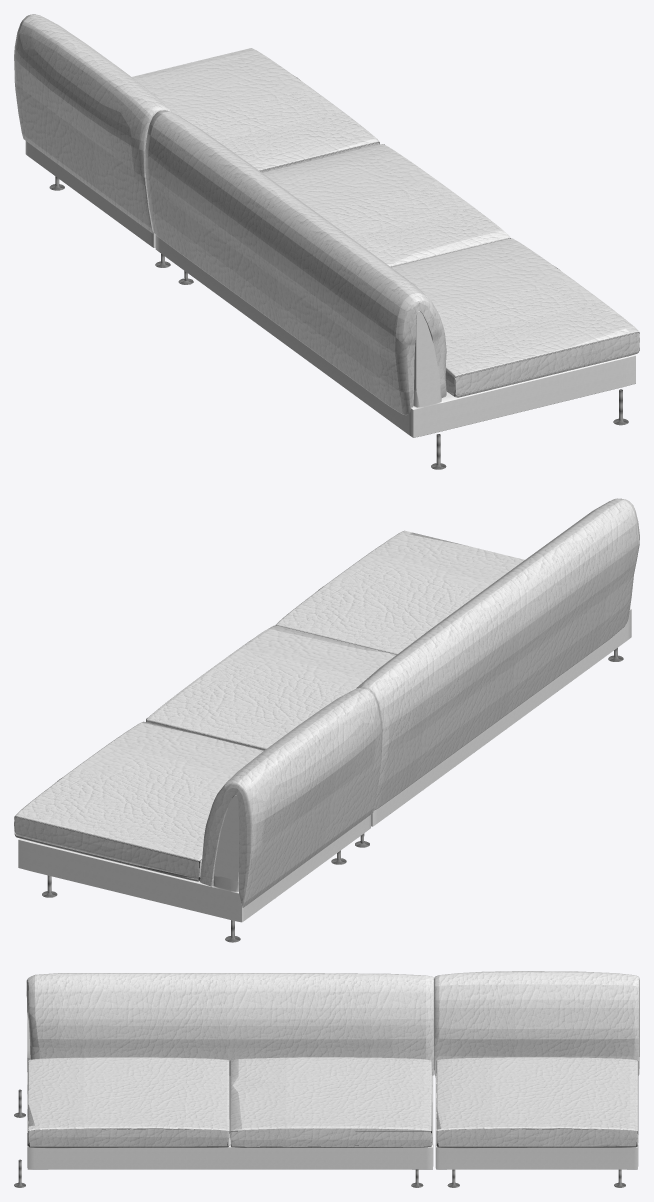
Rendered from sofa.obj.
3 views of the same model, one above another, from view 1: azimuth 30°, elevation 25°; view 2: azimuth 150°, elevation 25°; view 3: azimuth 270°, elevation 25° (orthographic). The views are drawn at different scales.
Visible parts, largest first — view 1: polySurface24; view 2: polySurface24; view 3: polySurface24.
Boxes of the visible parts, bbox=[...] form: polySurface24: bbox=[14, 14, 639, 469]; polySurface24: bbox=[14, 498, 639, 942]; polySurface24: bbox=[14, 971, 639, 1187].
Size of the model in its own units: 39.17 by 26.63 by 111.
5 materials, 4 textured.
